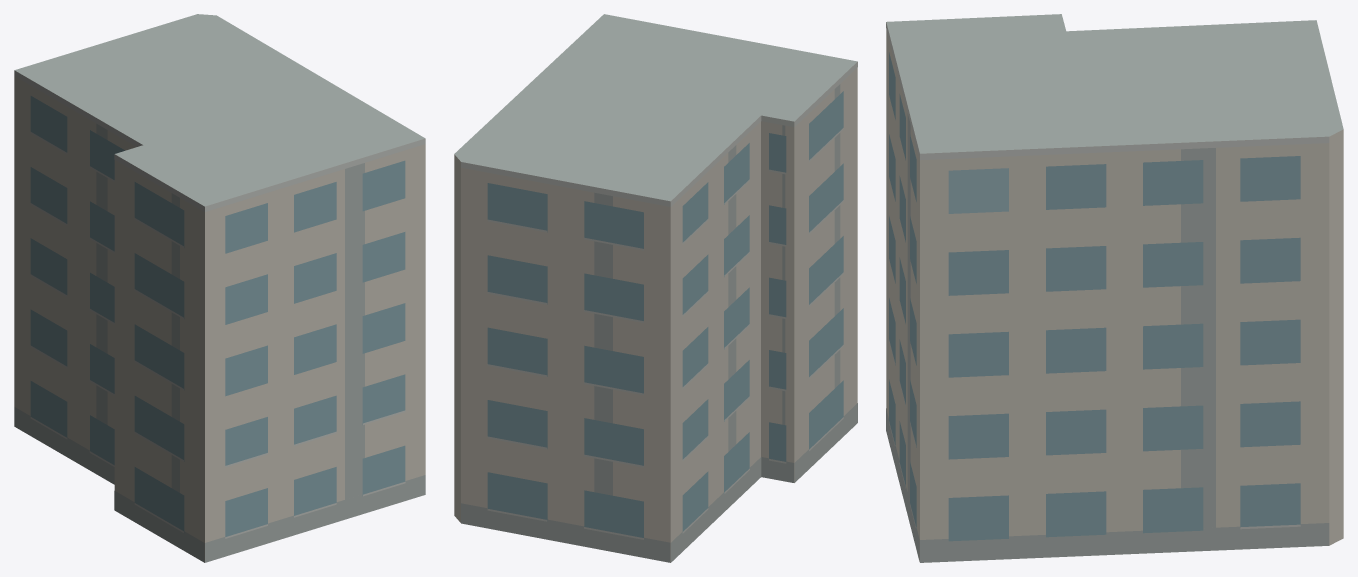
The model's file is survey-upis-32620379.glb.
The picture shows the model from 3 angles, left to right: view 1: azimuth 30°, elevation 25°; view 2: azimuth 150°, elevation 25°; view 3: azimuth 270°, elevation 25°; orthographic projection. The views are drawn at different scales.
Parts seen in each view (by area): view 1: survey-upis-32620379.tmp; view 2: survey-upis-32620379.tmp; view 3: survey-upis-32620379.tmp.
Boxes of the visible parts, x1,y1,x2,y2 form: survey-upis-32620379.tmp: [14, 14, 425, 562]; survey-upis-32620379.tmp: [454, 14, 857, 562]; survey-upis-32620379.tmp: [886, 14, 1343, 562].
Bounding box in the file's own units: 11.29 × 15.4 × 15.61.
